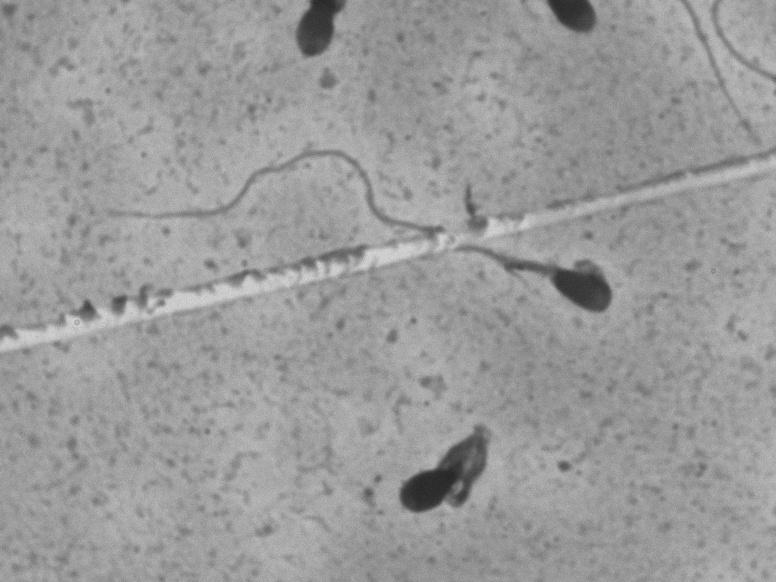Abnormal: (96, 150, 634, 362), (383, 406, 530, 542)
